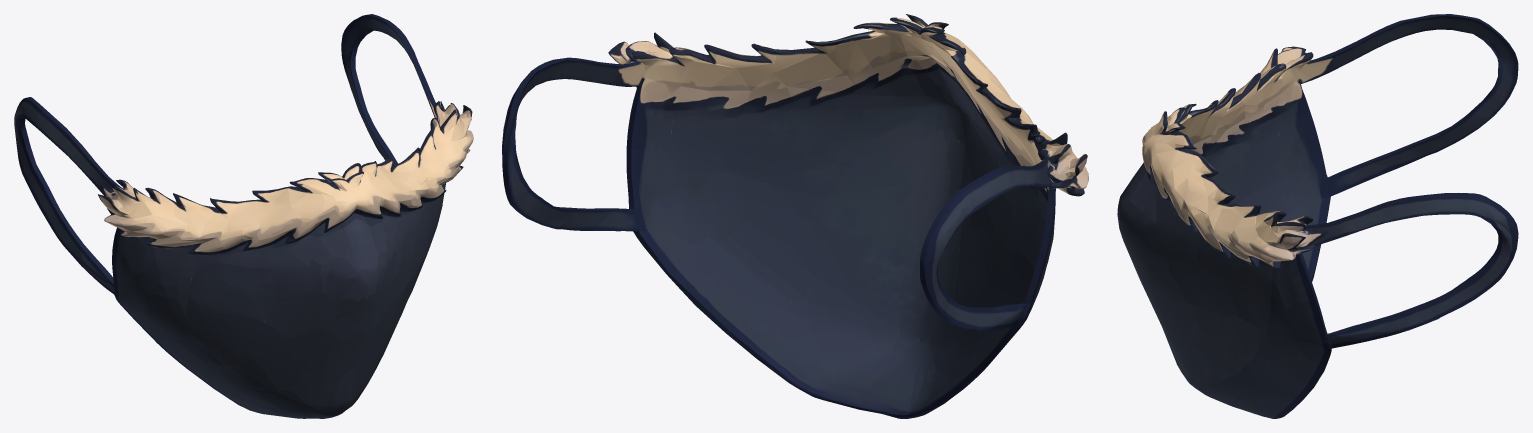
Rendered from nerith_f-masque-4-bord-de-fourrure.glb.
The picture shows the model from 3 angles, left to right: view 1: azimuth 30°, elevation 25°; view 2: azimuth 150°, elevation 25°; view 3: azimuth 270°, elevation 25°; orthographic projection. The views are drawn at different scales.
Visible parts, largest first — view 1: geometry_0; view 2: geometry_0; view 3: geometry_0.
Part boxes in pixels (box(x1,y1,x2,y2)): geometry_0: box(14, 14, 473, 418); geometry_0: box(502, 14, 1088, 418); geometry_0: box(1117, 14, 1518, 418).
Bounding box in the file's own units: 1.9 × 1.4 × 1.71.
1 material, 1 textured.
